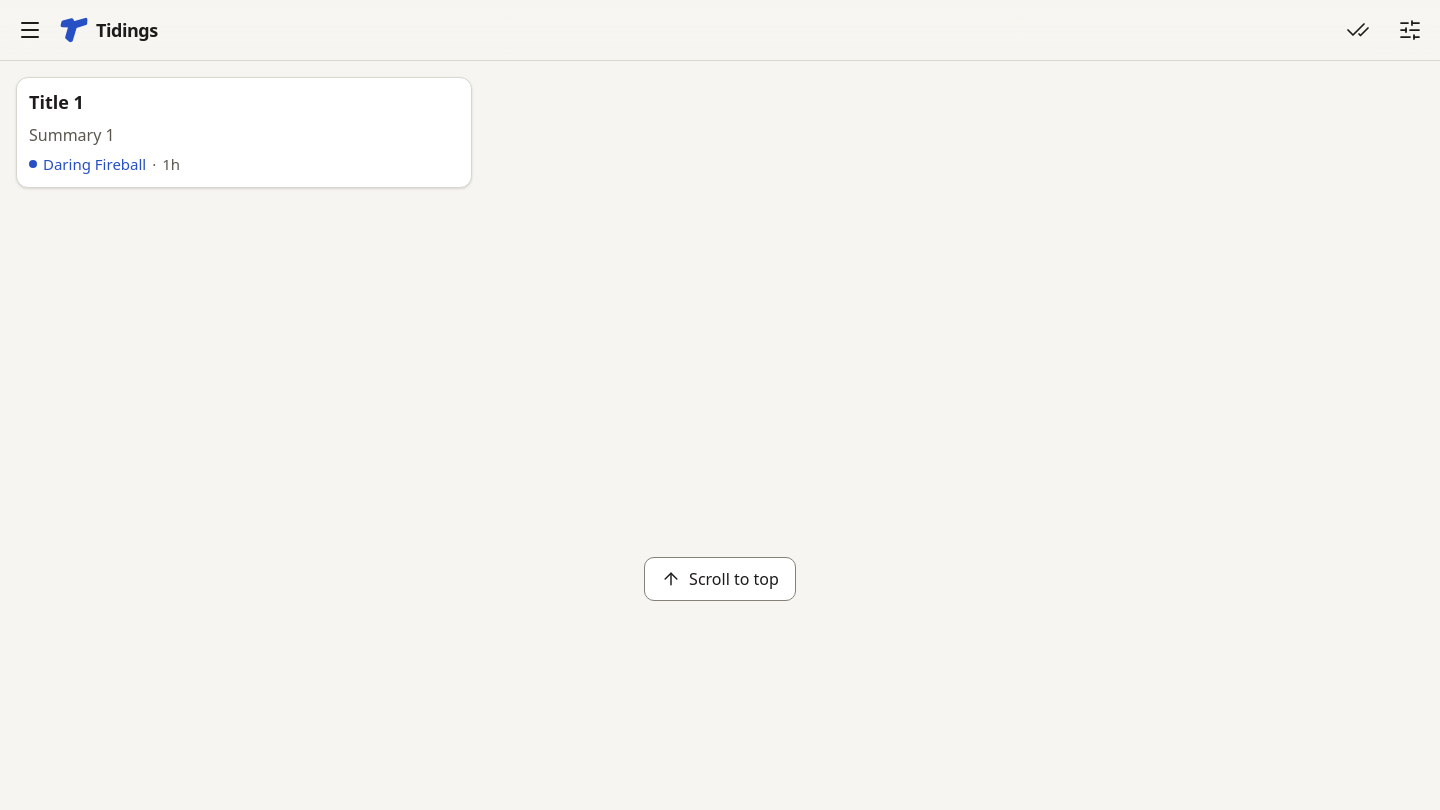
Test: AC2: unread only and the setting › toggles between unread only and all articles
Check: the heading "Title 1" is shown, box left=29, top=90, right=84, bottom=114
Check: the text "Title 2" is not shown
Click the button named "Filters".
click(1410, 30)  # box left=1388, top=8, right=1432, bottom=52
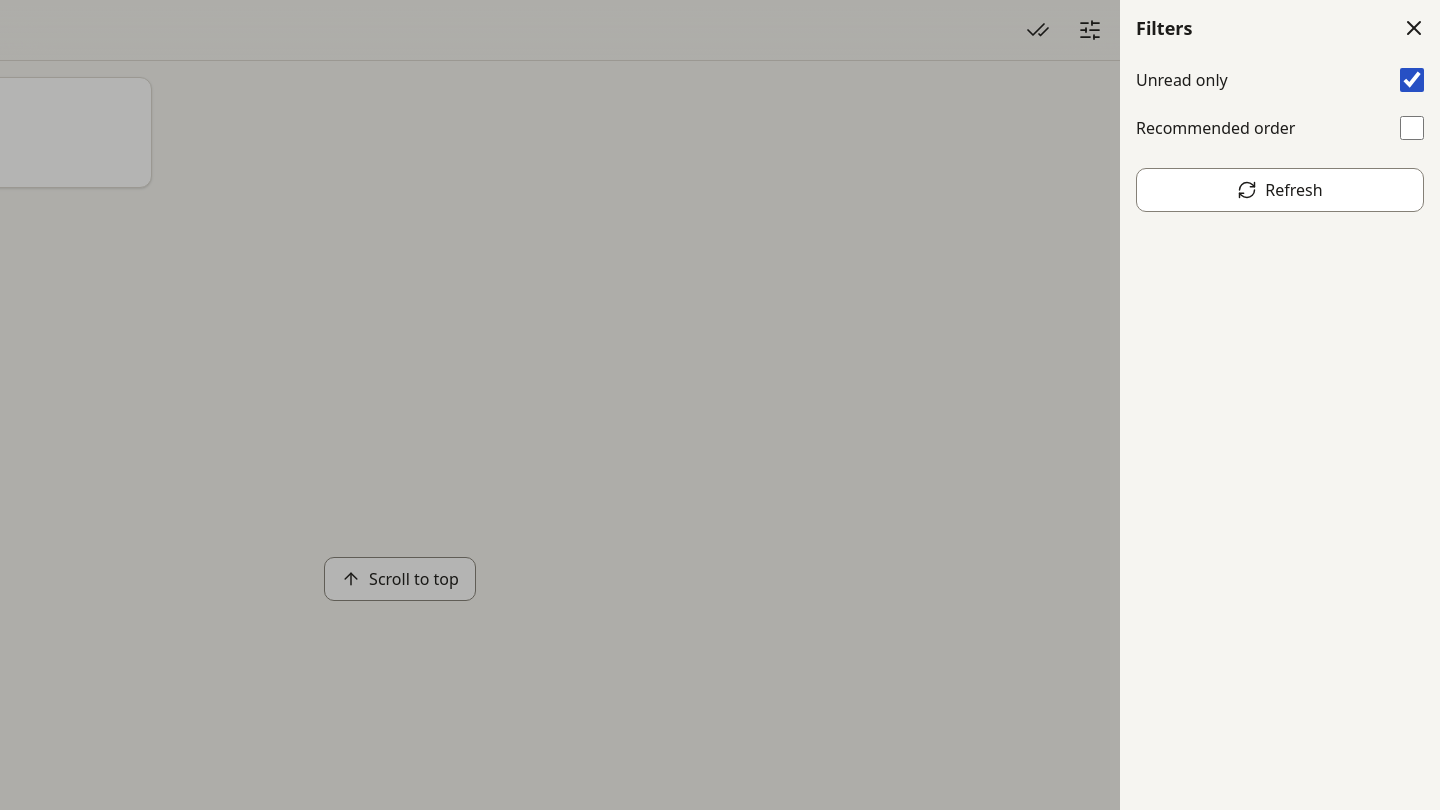
Check: the switch labelled "Unread only" is checked
Click the switch labelled "Unread only".
click(1412, 80)  # box left=1400, top=68, right=1424, bottom=92
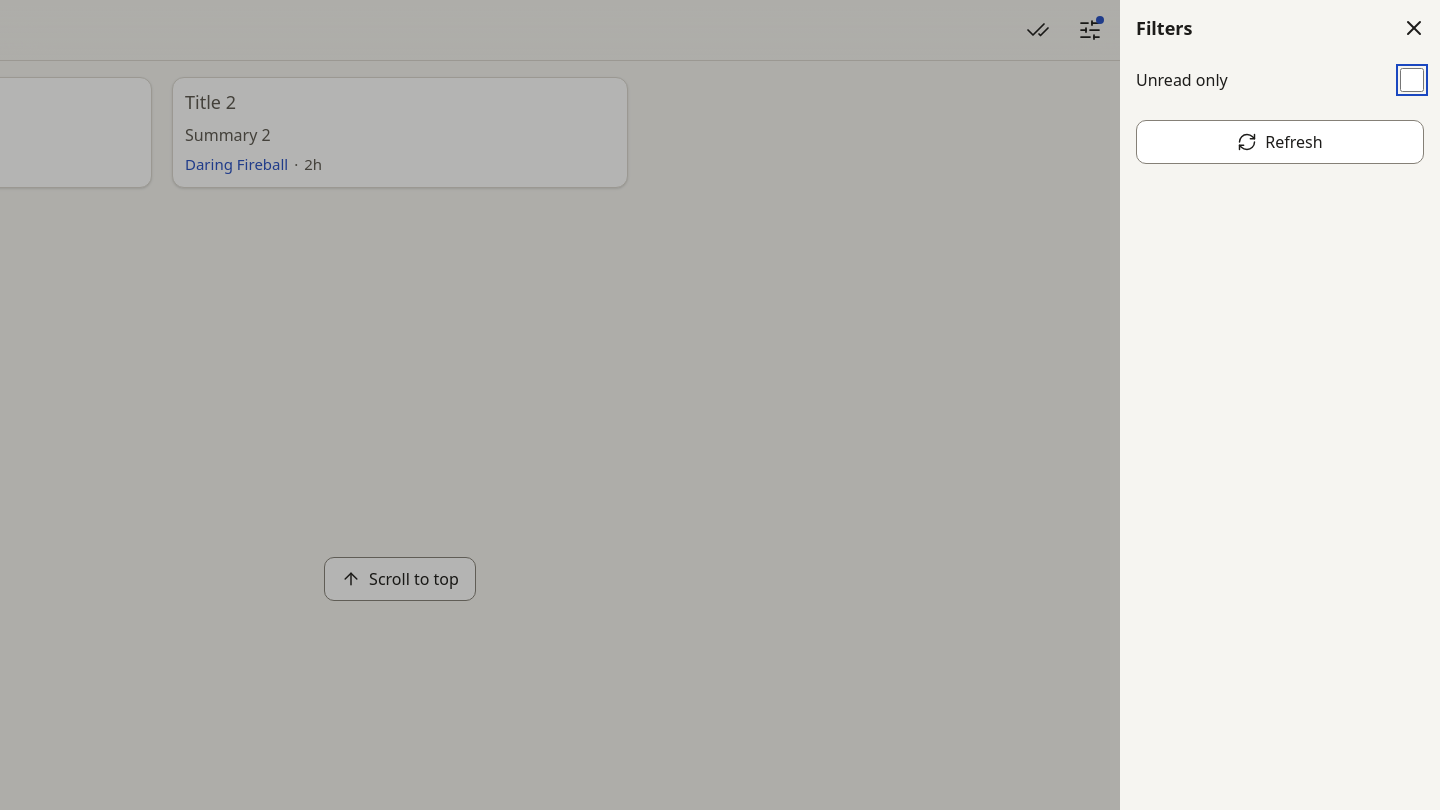
Check: the switch labelled "Unread only" is not checked
Check: the heading "Title 2" is shown, box left=185, top=90, right=236, bottom=114
Check: the element with test id "filter-dot" is shown, box left=1096, top=16, right=1104, bottom=24
Click the switch labelled "Unread only".
click(1412, 80)  # box left=1400, top=68, right=1424, bottom=92
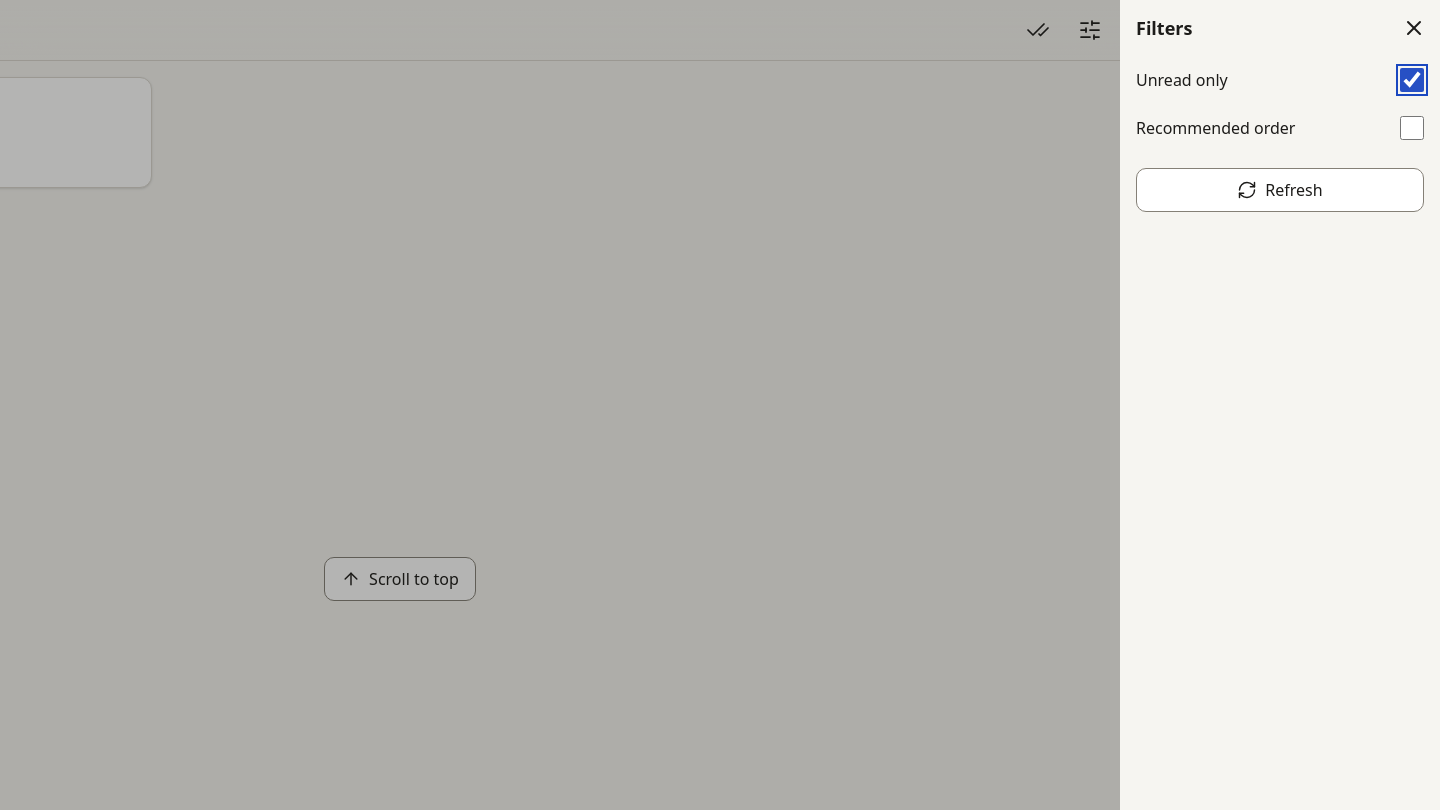
Check: the link "Title 2" is gone
Check: the element with test id "filter-dot" is gone
